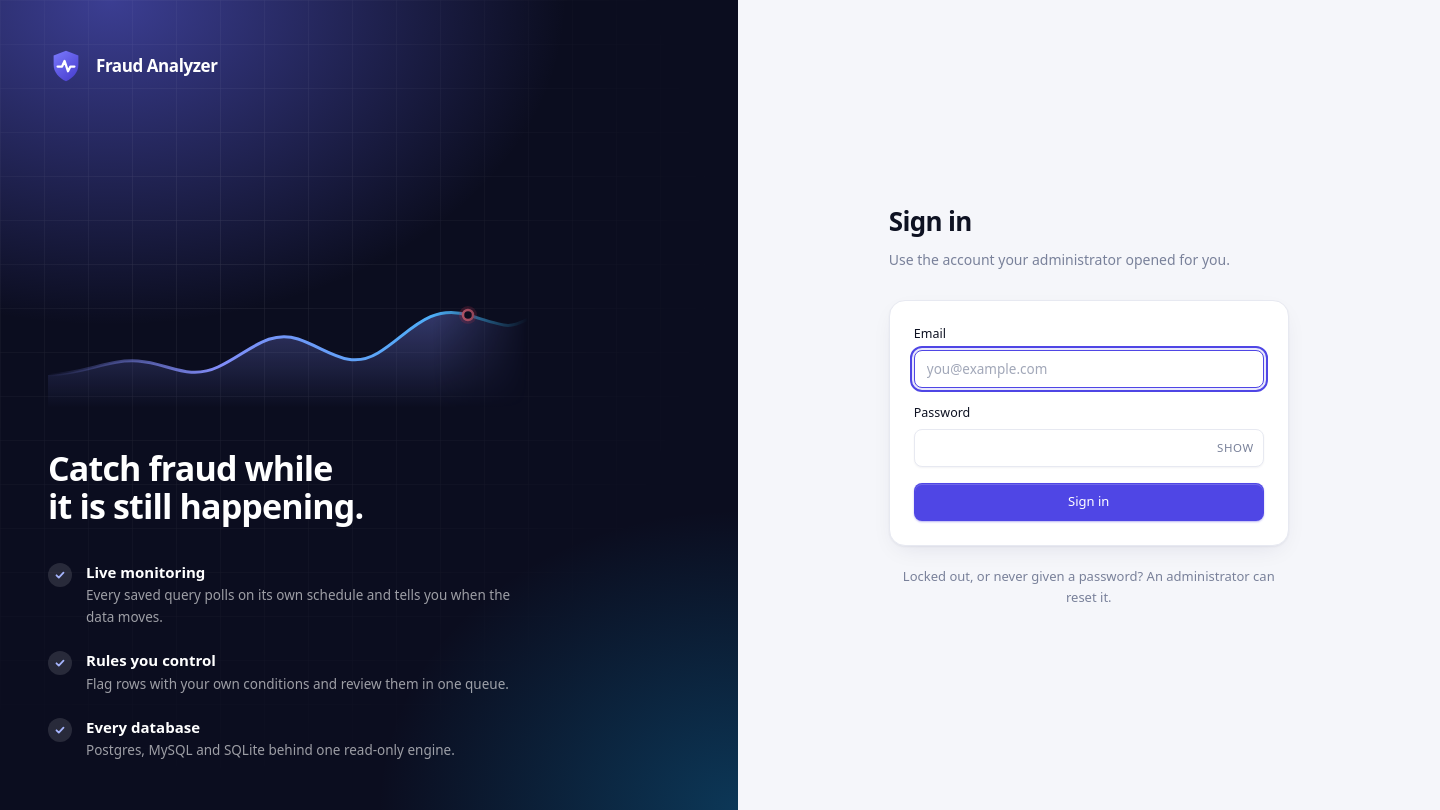
it: when it goes wrong › keeps the password when the engine was simply unreachable
The image size is (1440, 810).
Type "ada@example.com" into the field labelled "Email" at (1089, 369), box [914, 350, 1264, 388]
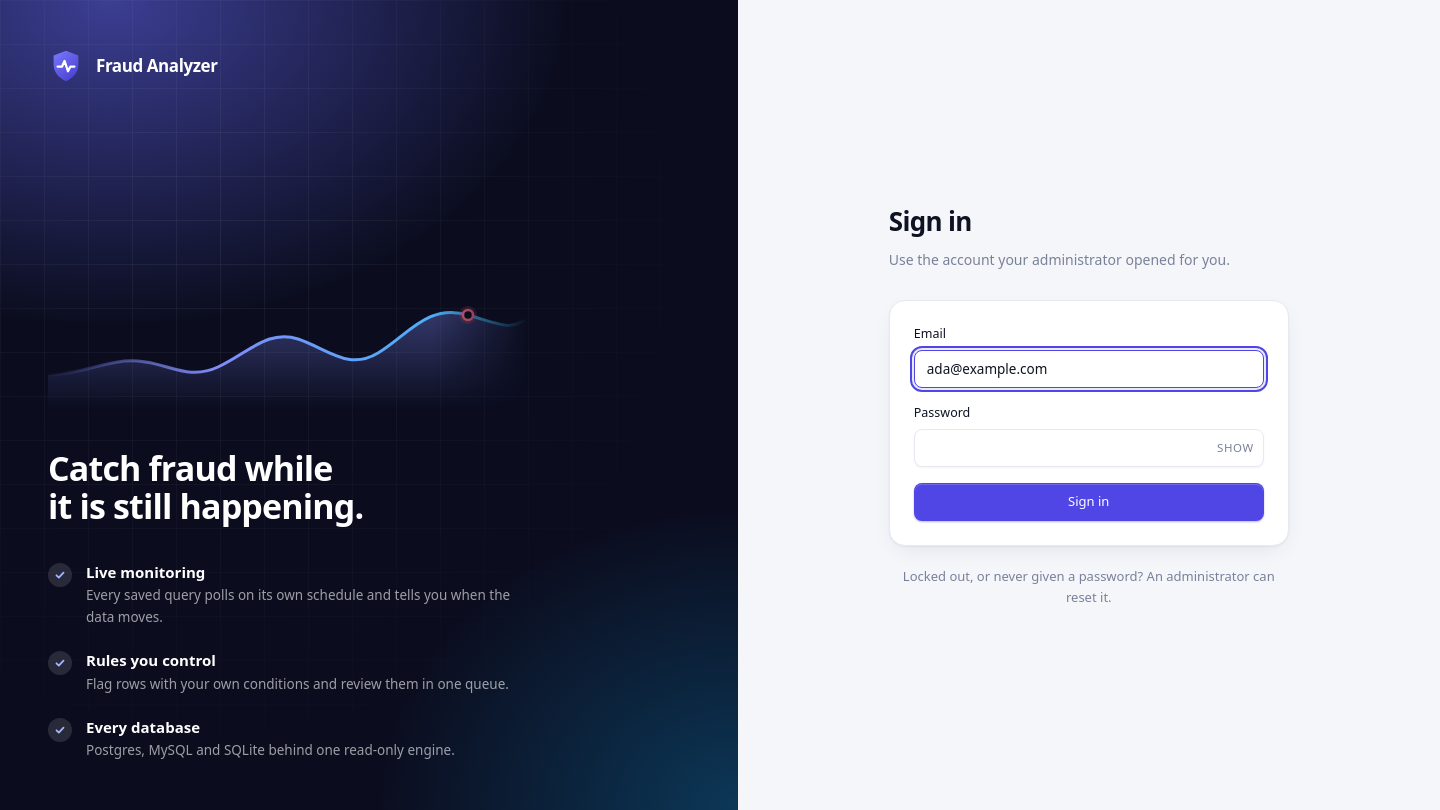
Type "hunter2hunter2" into the password field labelled "Password" at (1089, 448), box [914, 429, 1264, 467]
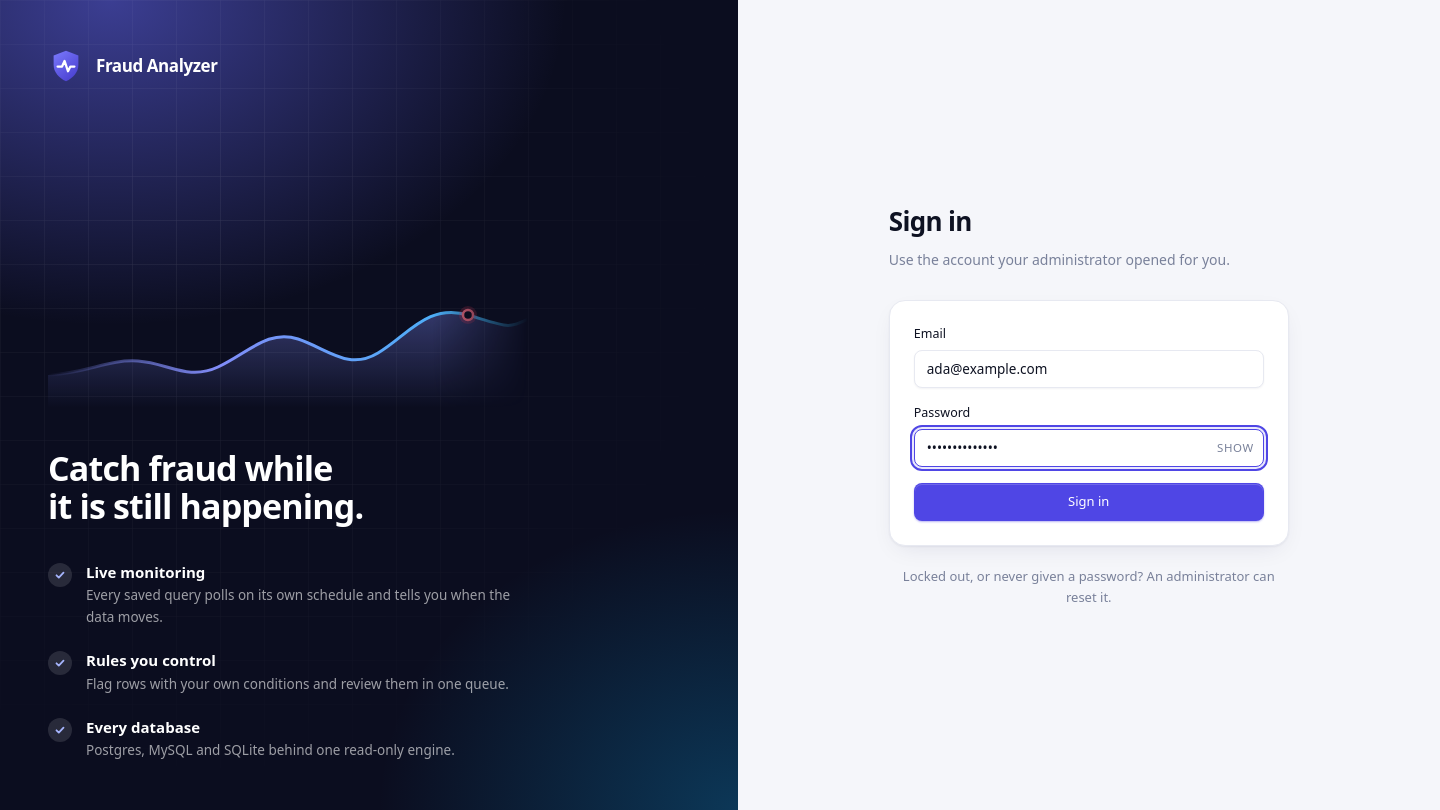
Click the button "Sign in" at (1089, 502), box [914, 483, 1264, 520]
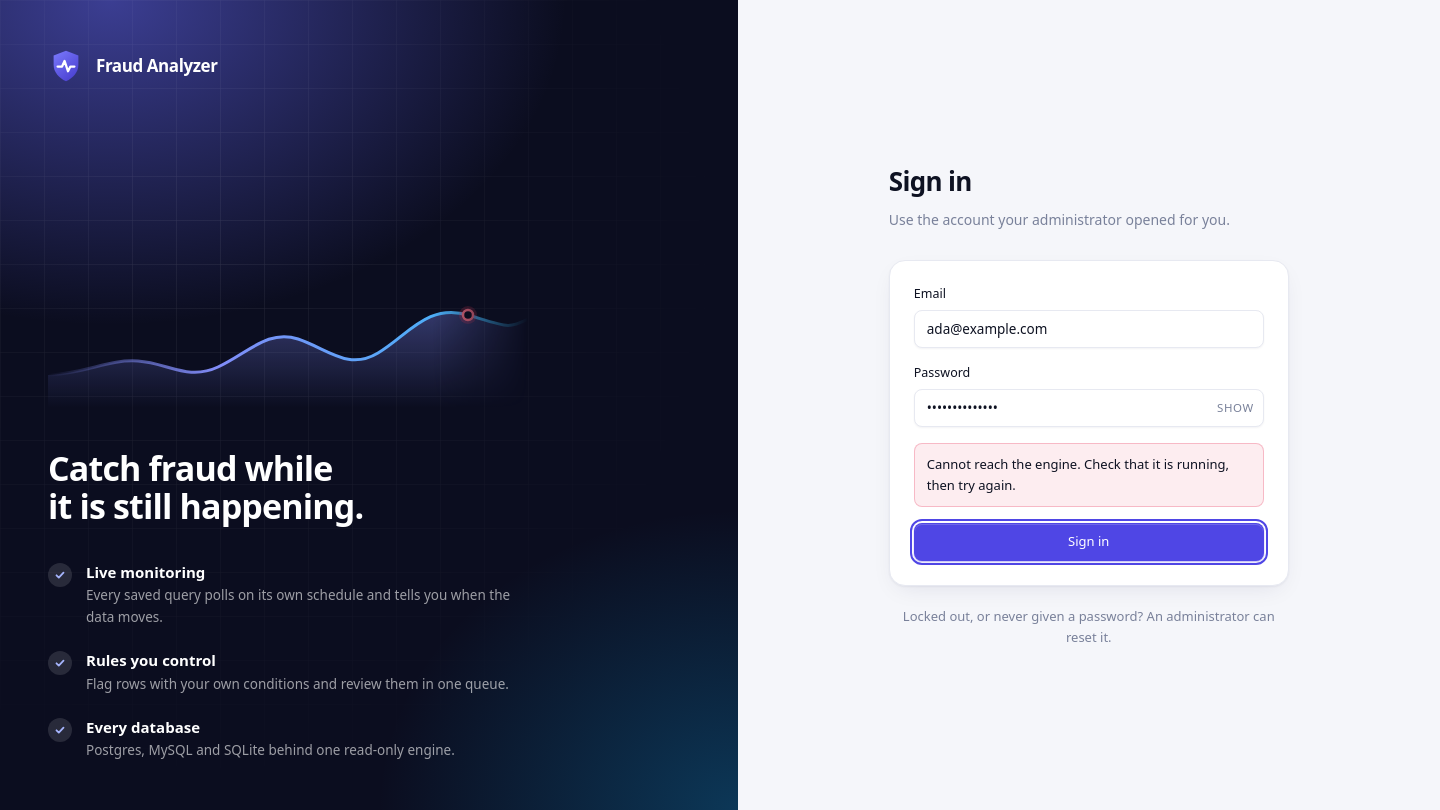
Result: the message "Cannot reach the engine. Check that it is running, then try again." is shown at [914, 443, 1264, 507]
